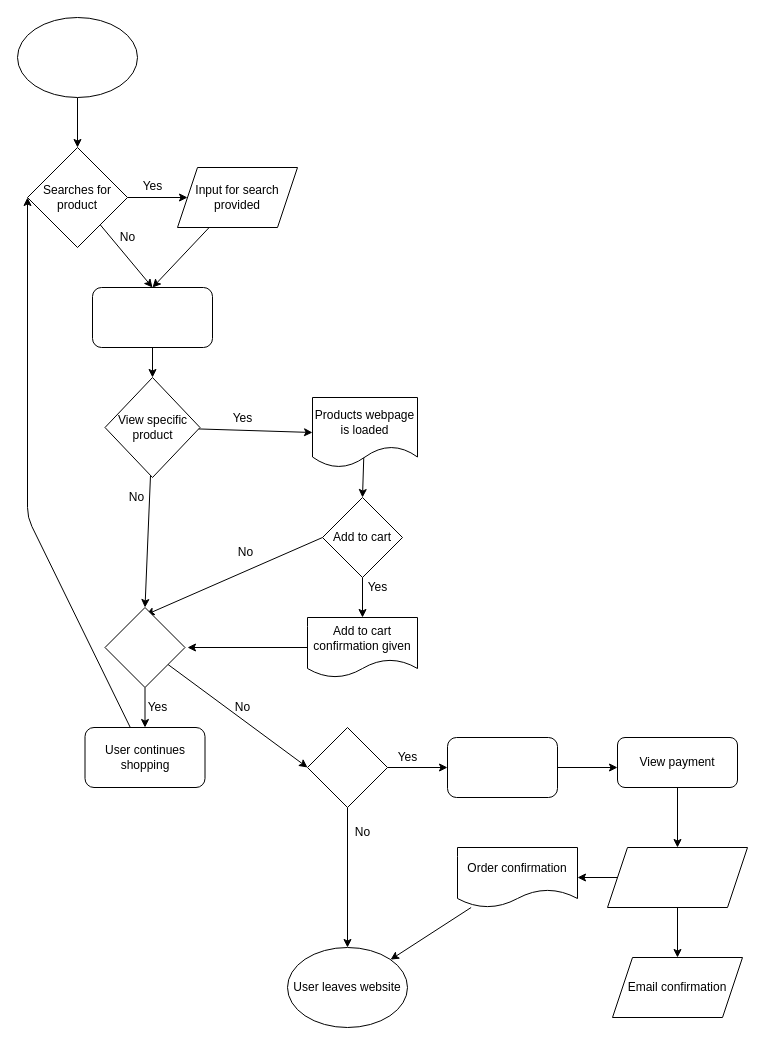
The diagram is 765 pixels wide and 1045 high, and some of its shapes have lost their labels. Each missing label, with the centre of its shape:
"Checkout" belongs at pixel 347 767.
"Continue shopping" belongs at pixel 144 647.
"User enters website" belongs at pixel 77 57.
"User looks over products" belongs at pixel 152 317.
"User payment input" belongs at pixel 677 877.
"View cart" belongs at pixel 502 767.
